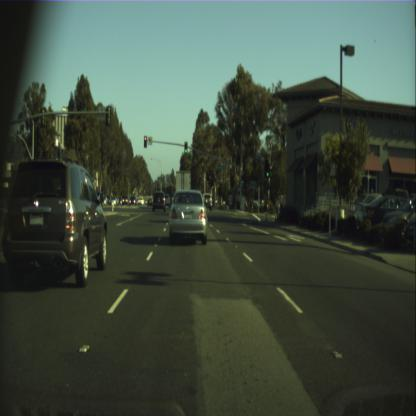Green: (264, 158, 270, 178), (241, 174, 245, 184), (184, 142, 187, 154)
RedLeft: (144, 135, 147, 148)
